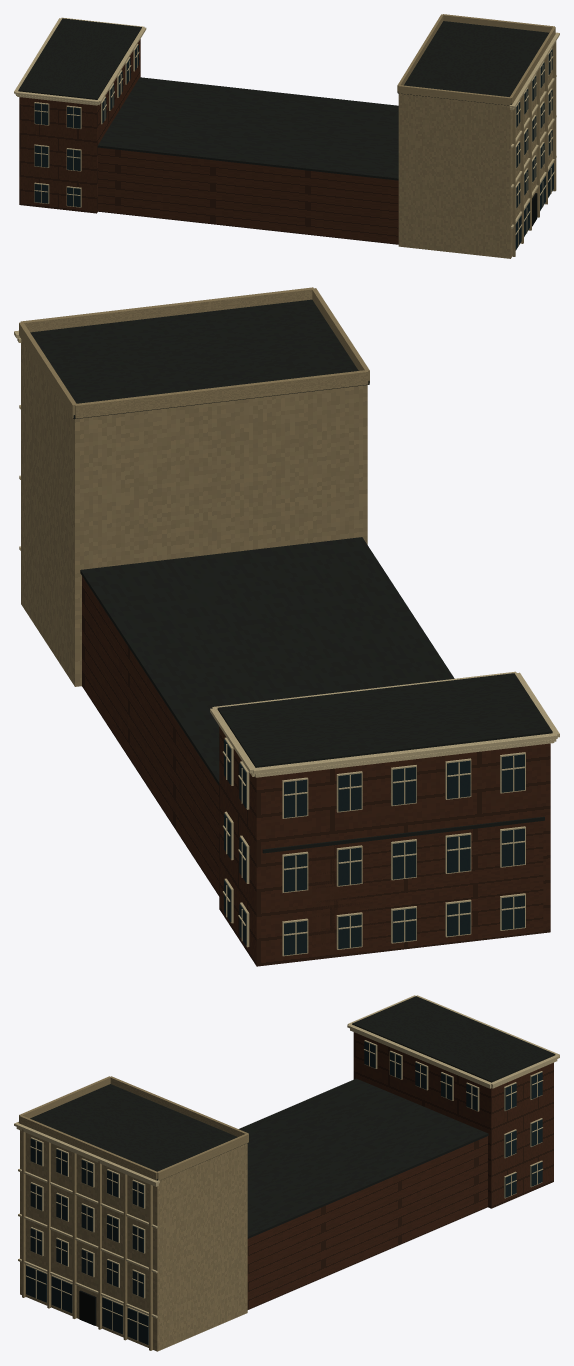
3 renders of one model, top to bottom at view 1: azimuth 30°, elevation 25°; view 2: azimuth 150°, elevation 25°; view 3: azimuth 270°, elevation 25°, orthographic. The views are drawn at different scales.
Parts seen in each view (by area): view 1: bijbank-boompjes-1, bijbank-boompjes-5, bijbank-boompjes-0, bijbank-boompjes-2, bijbank-boompjes-3; view 2: bijbank-boompjes-1, bijbank-boompjes-0, bijbank-boompjes-5, bijbank-boompjes-3, bijbank-boompjes-2; view 3: bijbank-boompjes-1, bijbank-boompjes-0, bijbank-boompjes-5, bijbank-boompjes-3, bijbank-boompjes-2, bijbank-boompjes-4.
Part boxes in pixels (x1,y1,x2,y2): bijbank-boompjes-1: (18,18,549,180); bijbank-boompjes-5: (19,39,398,244); bijbank-boompjes-0: (397,14,556,258); bijbank-boompjes-2: (14,17,559,246); bijbank-boompjes-3: (34,45,553,250); bijbank-boompjes-1: (30,299,552,853); bijbank-boompjes-0: (19,287,369,686); bijbank-boompjes-5: (82,576,550,966); bijbank-boompjes-3: (224,739,524,955); bijbank-boompjes-2: (14,330,559,956); bijbank-boompjes-1: (18,996,555,1238); bijbank-boompjes-0: (19,1076,248,1351); bijbank-boompjes-5: (247,1032,553,1309); bijbank-boompjes-3: (26,1041,542,1344); bijbank-boompjes-2: (14,995,559,1345); bijbank-boompjes-4: (79,1290,96,1325).
Bounding box in the file's own units: 55.51 × 19.95 × 55.13.
Materials: 6 (6 with a texture image).
